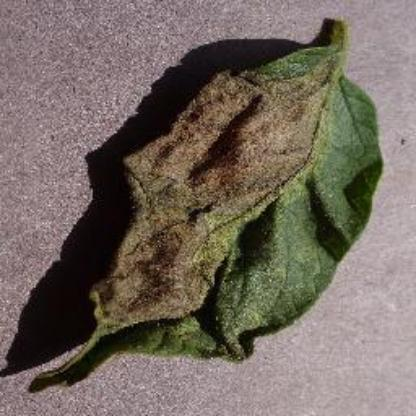Late-Blight: (36, 22, 392, 390)
